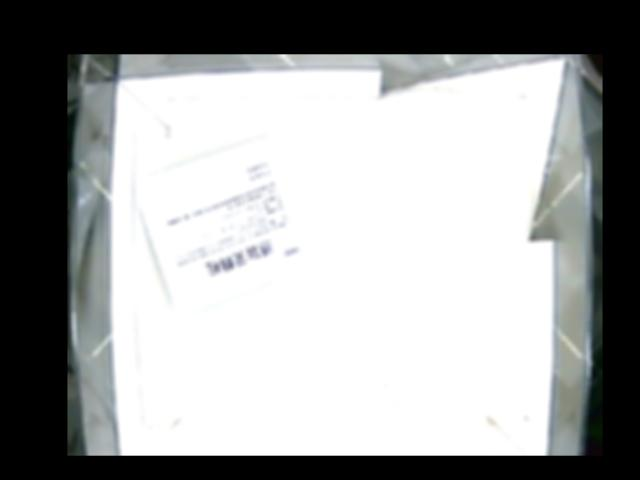Medicine: (136, 130, 328, 316)
